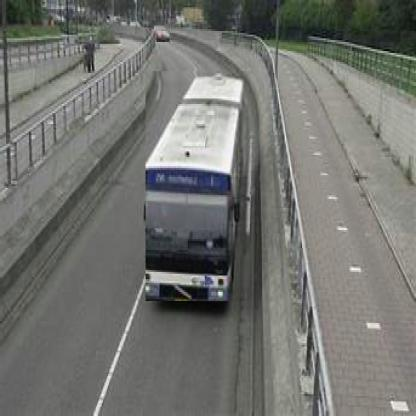bus: (145, 72, 251, 304)
car: (156, 25, 171, 45)
